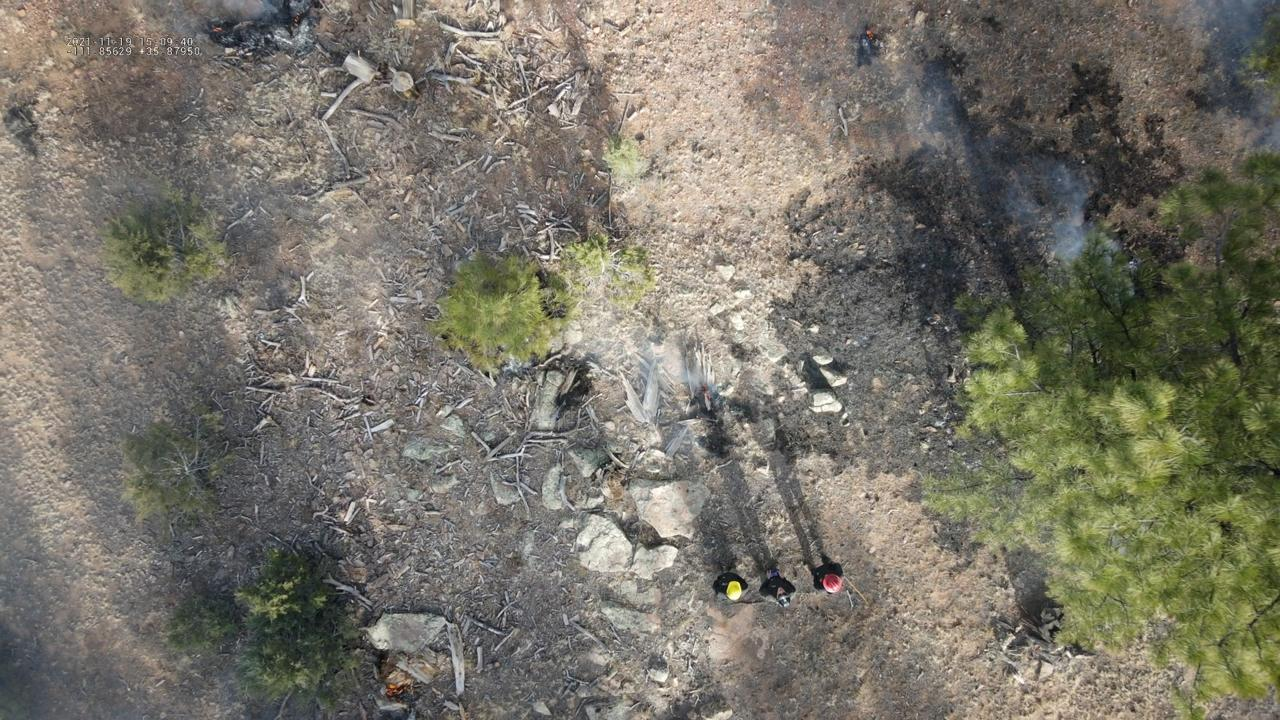fire: (704, 386, 715, 399), (211, 24, 222, 33), (866, 29, 875, 40), (294, 13, 302, 23)
smoke: (1003, 162, 1089, 259), (1179, 0, 1280, 50), (223, 0, 282, 18), (1252, 119, 1280, 155)
